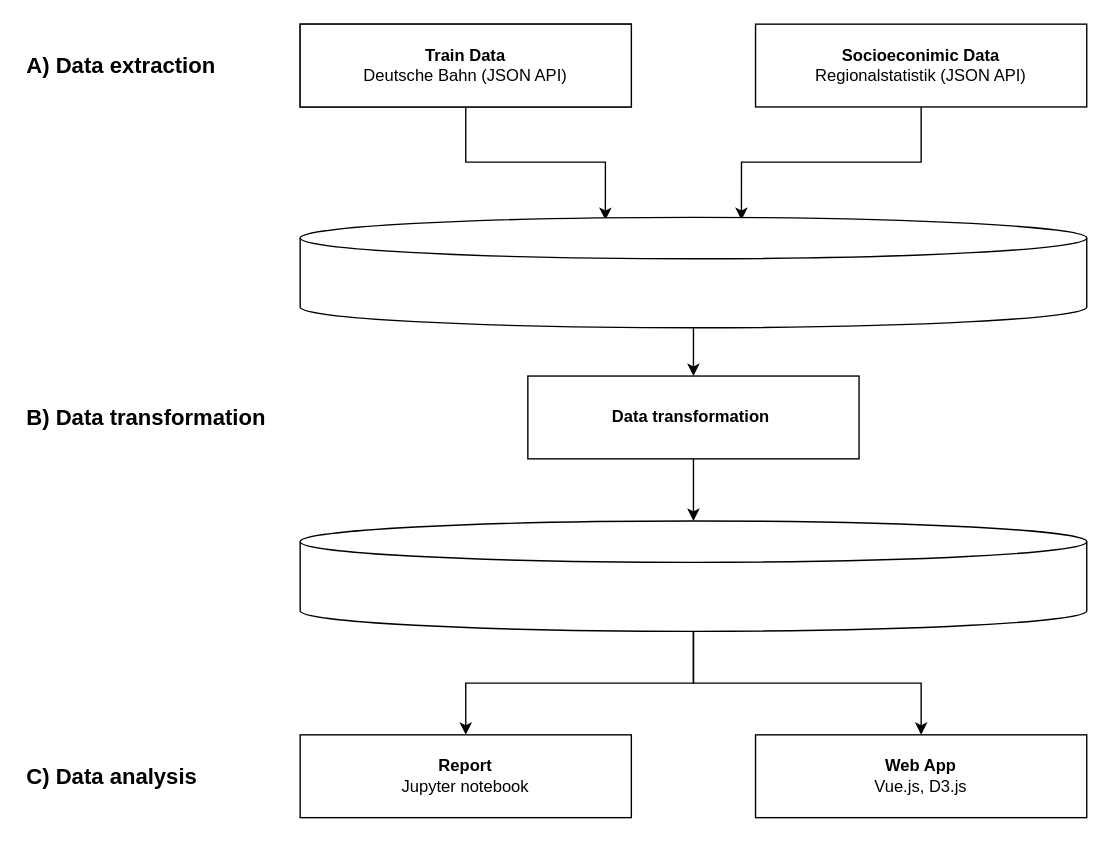
The diagram is 1111 pixels wide and 842 high, and some of its shapes have lost their labels. The shapes that lost their labels are listed below. From the top down, each one's box as (x1, y1, x2, y2) in pixels, then its label:
(299, 216, 1087, 328): Staging area: Mongo DB (document database)
(299, 520, 1087, 631): Data storage: Neo4j (graph database)
